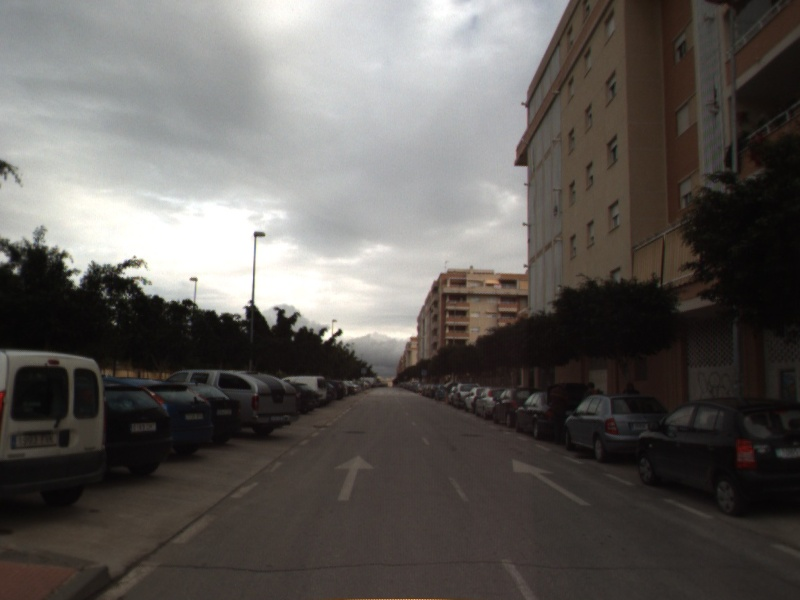STRAIGHT: (510, 457, 593, 507), (332, 453, 377, 503)
